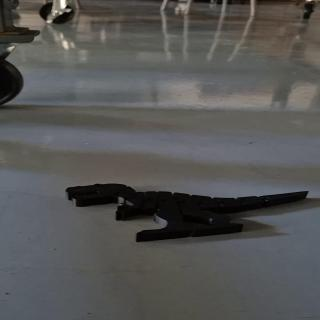dino: (64, 183, 310, 243)
